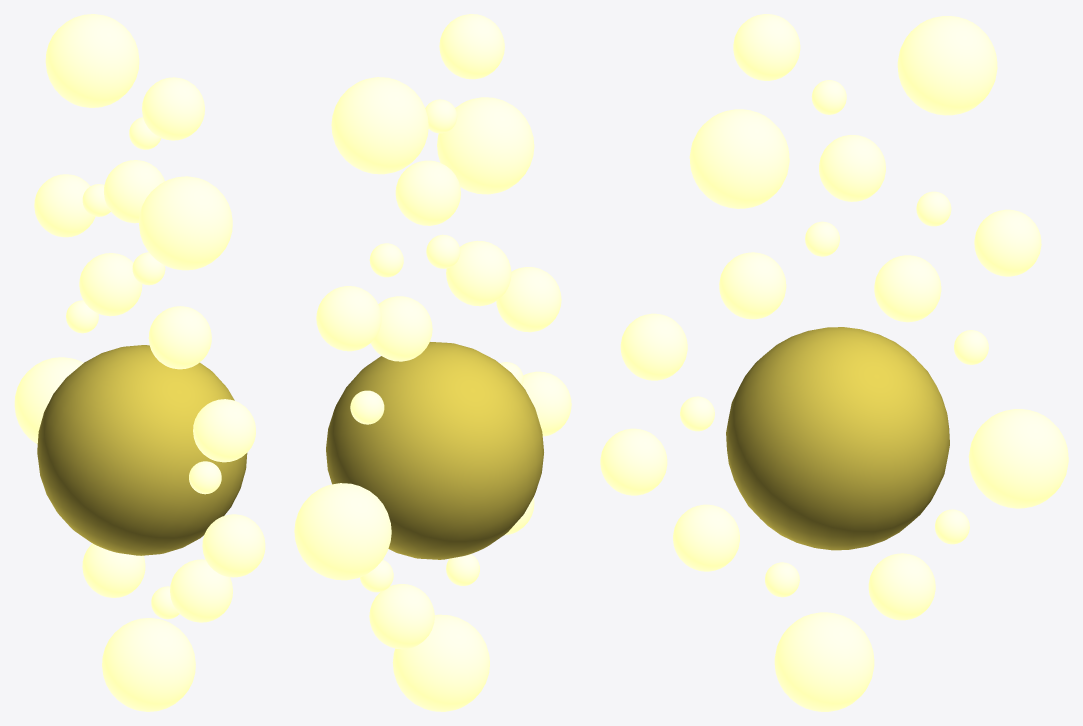
The model's file is MemorySpore.fbx.
The picture shows the model from 3 angles, left to right: view 1: azimuth 30°, elevation 25°; view 2: azimuth 150°, elevation 25°; view 3: azimuth 270°, elevation 25°; orthographic projection. The views are drawn at different scales.
Visible parts, largest first — view 1: Sphere, Sphere.007, Sphere.009, Sphere.014, Sphere.006, Sphere.012, Sphere.002, Sphere.005, Sphere.008, Sphere.013, Sphere.020, Sphere.018 (+8 smaller); view 2: Sphere, Sphere.018, Sphere.009, Sphere.007, Sphere.014, Sphere.006, Sphere.020, Sphere.003, Sphere.016, Sphere.002, Sphere.005, Sphere.008 (+7 smaller); view 3: Sphere, Sphere.014, Sphere.007, Sphere.018, Sphere.009, Sphere.002, Sphere.016, Sphere.005, Sphere.012, Sphere.013, Sphere.008, Sphere.020 (+9 smaller).
Part boxes in pixels (<box>): Sphere: <box>37,345,247,555</box>; Sphere.007: <box>139,176,232,270</box>; Sphere.009: <box>45,14,139,107</box>; Sphere.014: <box>102,618,195,711</box>; Sphere.006: <box>142,77,204,140</box>; Sphere.012: <box>202,514,265,577</box>; Sphere.002: <box>148,306,211,369</box>; Sphere.005: <box>193,399,255,462</box>; Sphere.008: <box>79,253,142,316</box>; Sphere.013: <box>170,559,232,622</box>; Sphere.020: <box>34,174,95,237</box>; Sphere.018: <box>14,357,83,444</box>; Sphere: <box>326,342,543,559</box>; Sphere.018: <box>294,483,391,580</box>; Sphere.009: <box>331,77,428,174</box>; Sphere.007: <box>437,97,534,194</box>; Sphere.014: <box>392,614,489,711</box>; Sphere.006: <box>439,14,504,79</box>; Sphere.020: <box>316,286,381,351</box>; Sphere.003: <box>395,160,460,225</box>; Sphere.016: <box>369,584,434,649</box>; Sphere.002: <box>446,240,511,306</box>; Sphere.005: <box>496,267,561,332</box>; Sphere.008: <box>370,296,432,361</box>; Sphere: <box>726,327,949,550</box>; Sphere.014: <box>774,612,874,711</box>; Sphere.007: <box>689,109,789,208</box>; Sphere.018: <box>968,409,1068,508</box>; Sphere.009: <box>897,16,997,115</box>; Sphere.002: <box>719,252,786,319</box>; Sphere.016: <box>868,553,935,620</box>; Sphere.005: <box>620,313,687,380</box>; Sphere.012: <box>600,428,667,495</box>; Sphere.013: <box>673,504,739,571</box>; Sphere.008: <box>874,255,941,322</box>; Sphere.020: <box>974,209,1041,276</box>.
Bounding box in the file's own units: 364 × 1237 × 762.
